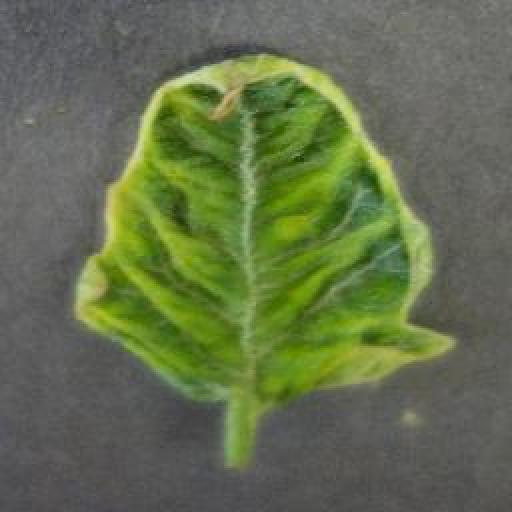disease_tomato: (70, 52, 458, 406)
